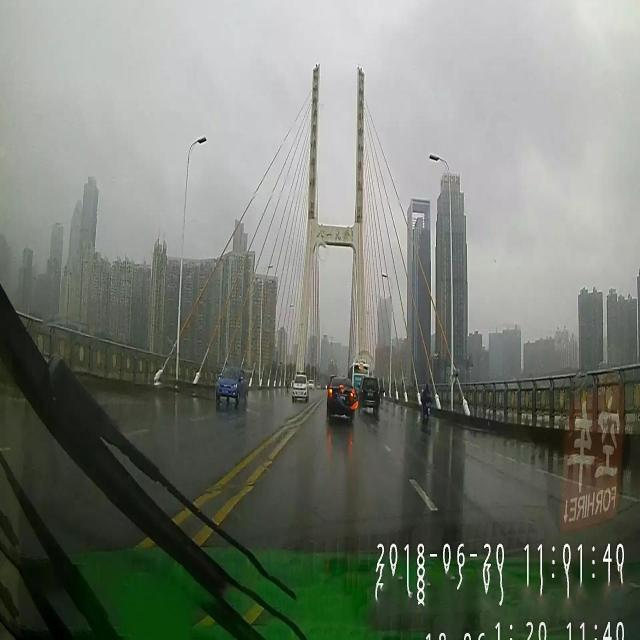car: (326, 374, 356, 424), (214, 364, 248, 408), (358, 374, 381, 416), (292, 368, 308, 402)
